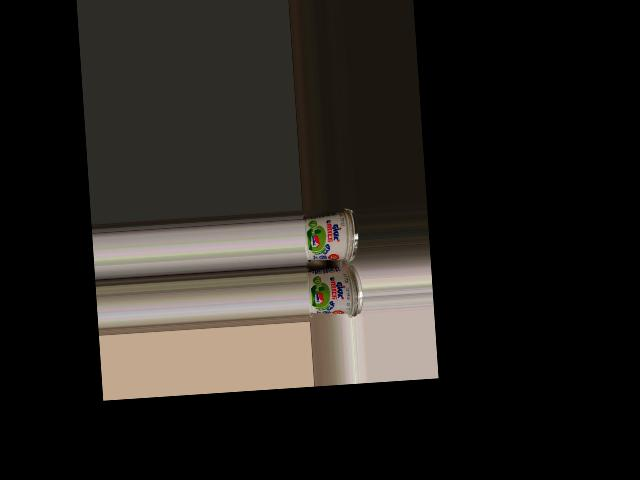cotage: (302, 212, 358, 265)
